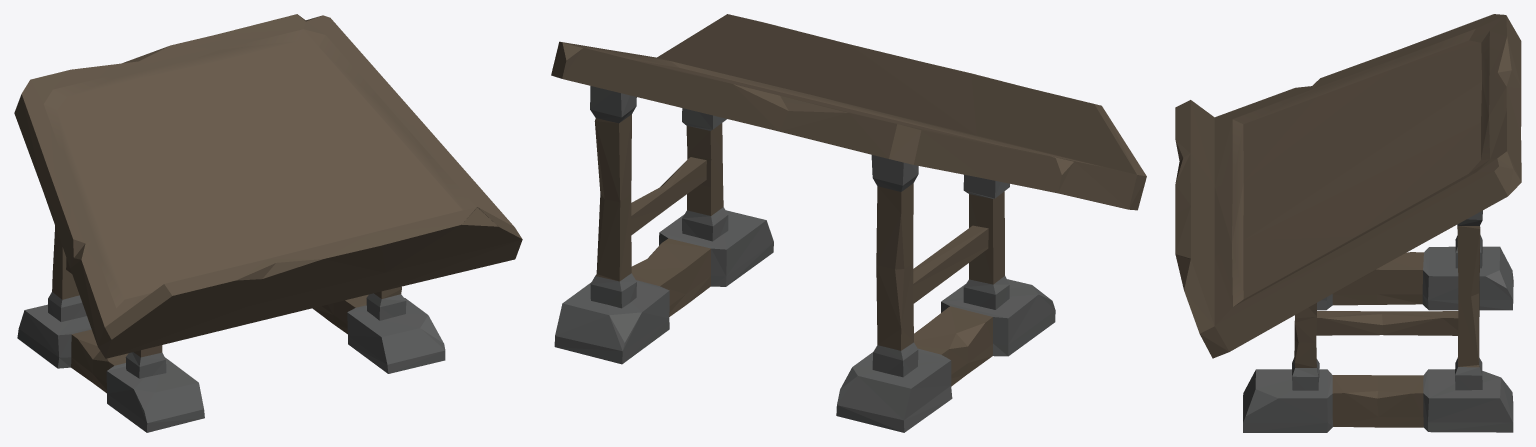
Rendered from SFHW_Podium.fbx.
The picture shows the model from 3 angles, left to right: view 1: azimuth 30°, elevation 25°; view 2: azimuth 150°, elevation 25°; view 3: azimuth 270°, elevation 25°; orthographic projection. The views are drawn at different scales.
Parts seen in each view (by area): view 1: SFHW_Podium; view 2: SFHW_Podium; view 3: SFHW_Podium.
Part boxes in pixels (left/top/right/bottom): SFHW_Podium: left=14, top=14, right=522, bottom=432; SFHW_Podium: left=551, top=14, right=1146, bottom=432; SFHW_Podium: left=1175, top=14, right=1521, bottom=432.
Size of the model in its own units: 95.53 by 57.58 by 66.71.
